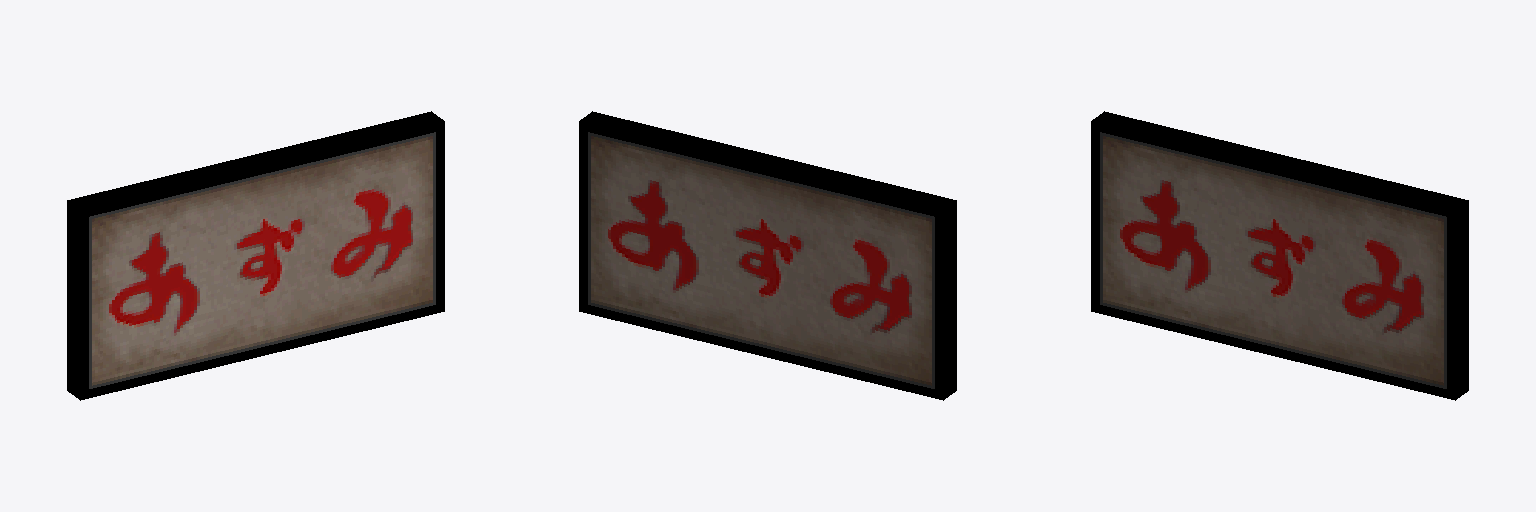
3 renders of one model, left to right at view 1: azimuth 30°, elevation 25°; view 2: azimuth 150°, elevation 25°; view 3: azimuth 330°, elevation 25°, orthographic.
Bounding box in the file's own units: 4 × 2 × 0.25.
Materials: 1 (1 with a texture image).